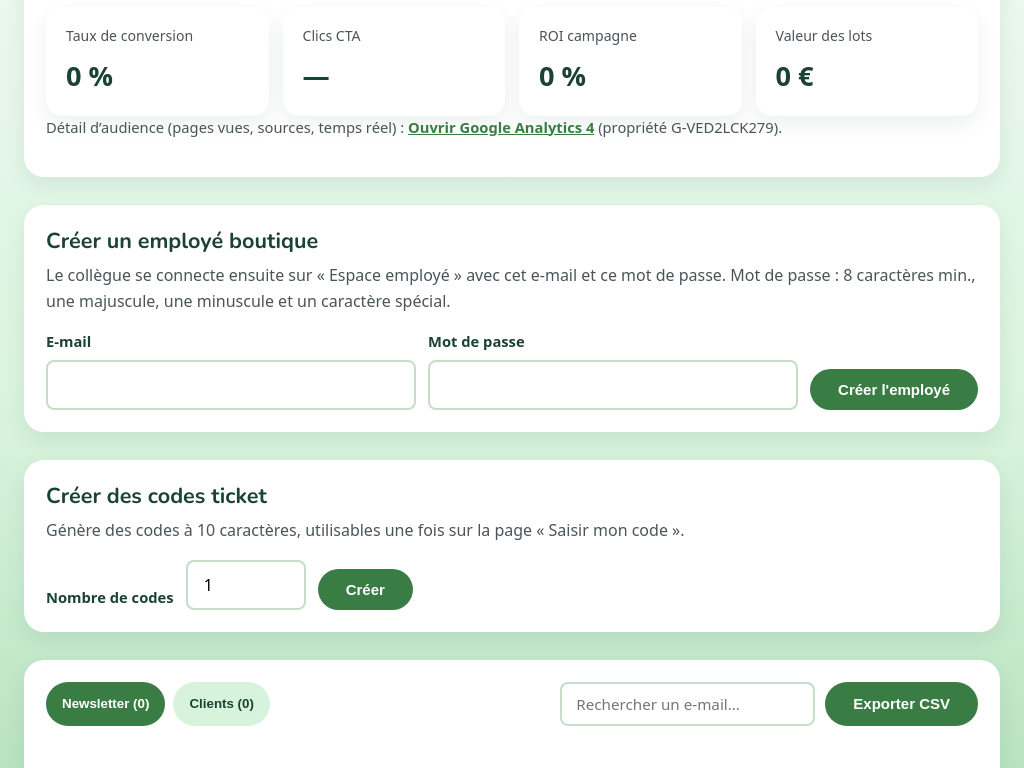
Test: Admin › crée un employé depuis le back-office
(page scrolled)
Expected: the heading "Créer un employé boutique" is shown, 46,226 -> 318,256
Type "employe@example.com" into the field labelled "E-mail". click: (231, 385)
box: 46,360 -> 416,410
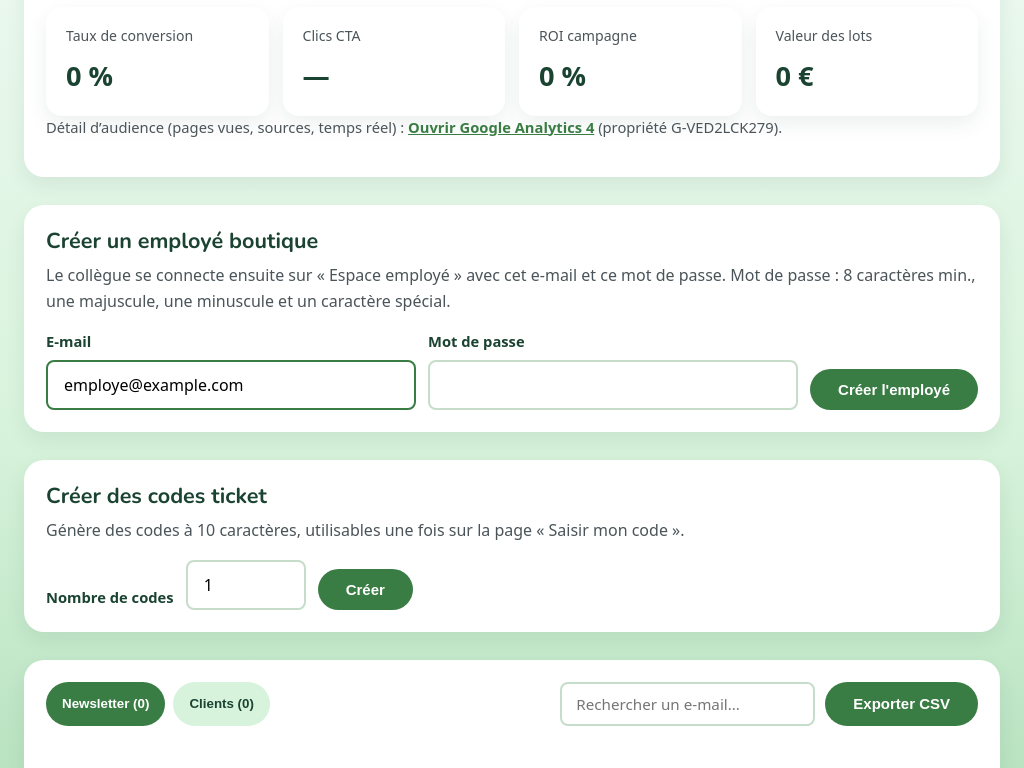
Type "MotDePasse1!" into the password field labelled "Mot de passe". click: (613, 385)
box: 428,360 -> 798,410
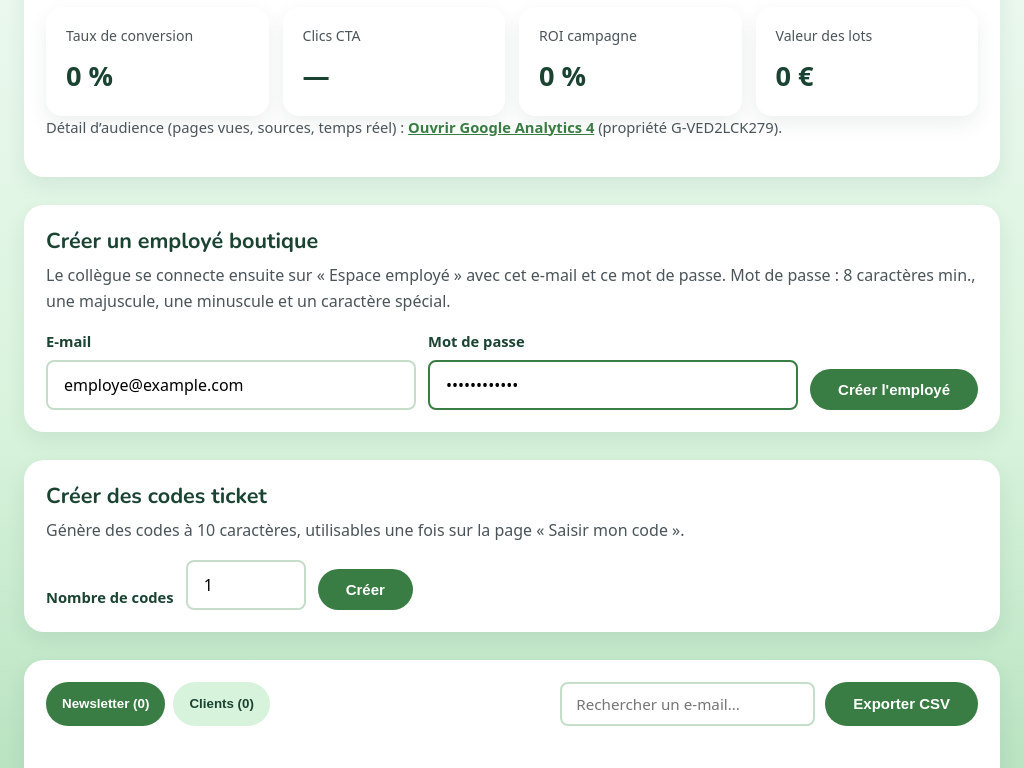
Click the button "Créer l'employé". click: (894, 389)
box: 810,369 -> 978,410
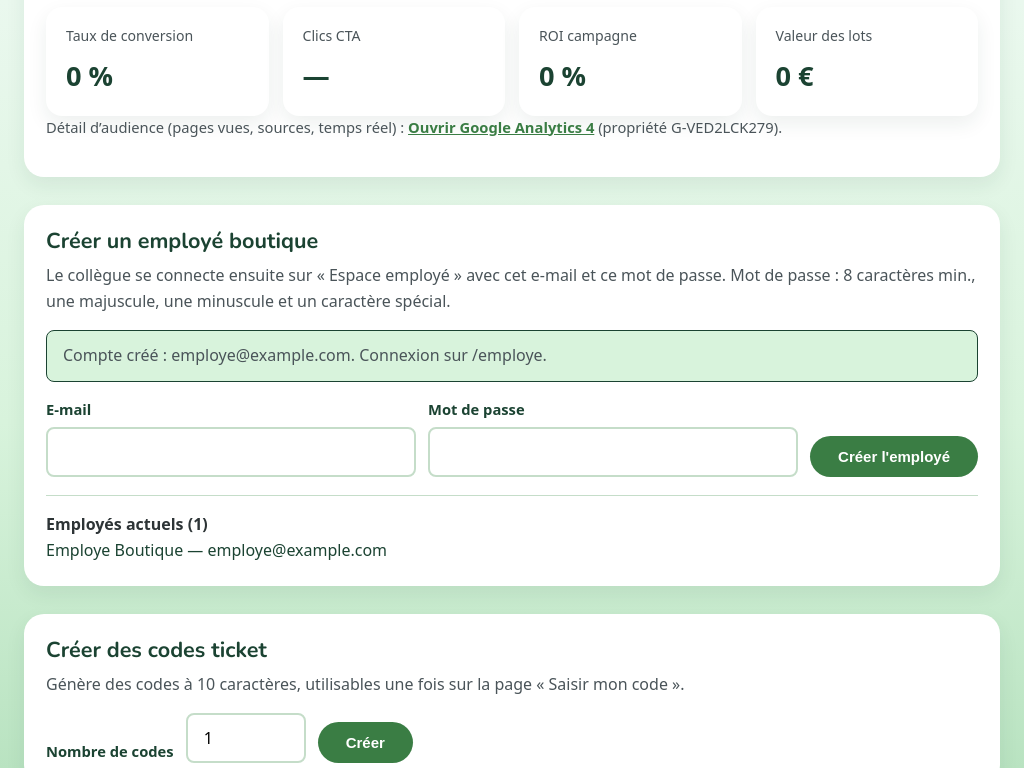
Expected: the message shows "Compte créé : employe@example.com", 63,344 -> 547,366
Expected: the list item "Employe Boutique — employe@example.com" is shown, 46,538 -> 387,564
